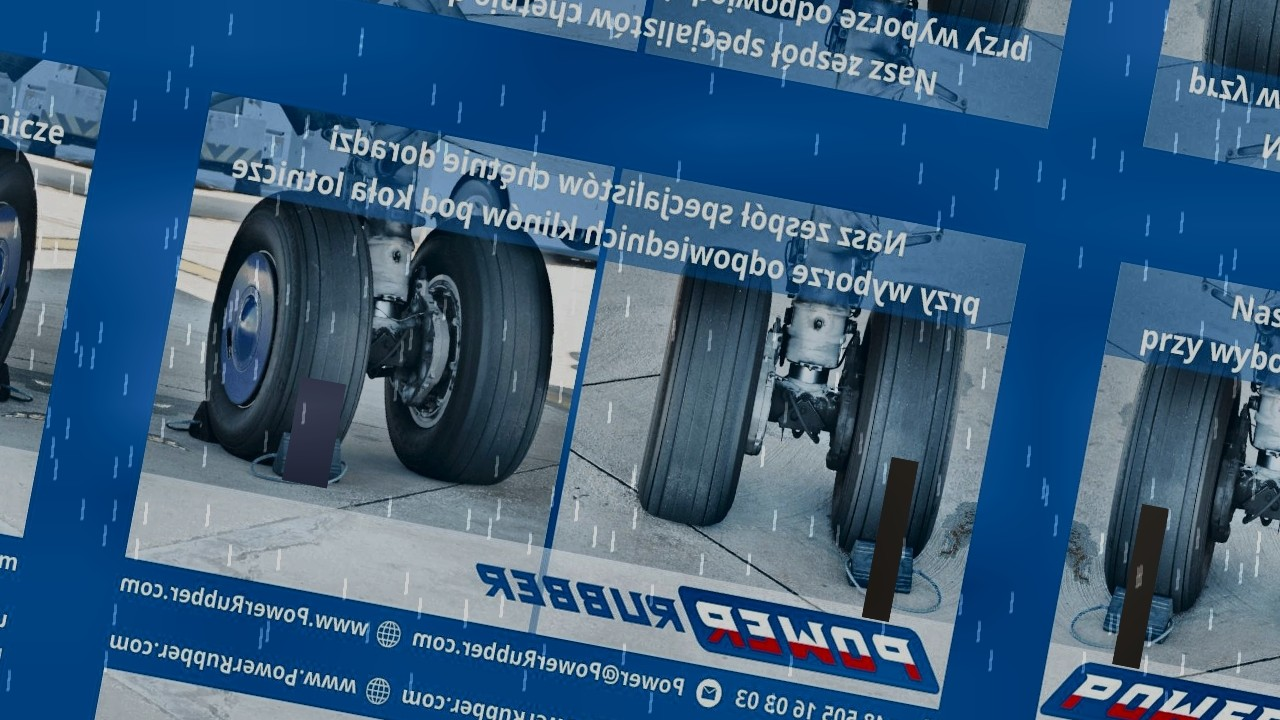chock: (1099, 580, 1181, 651), (840, 532, 922, 602), (268, 425, 349, 490), (181, 397, 225, 446), (0, 358, 21, 408)
wheel: (186, 186, 396, 479), (369, 215, 576, 497), (821, 275, 983, 569), (1092, 326, 1254, 620), (631, 242, 784, 533), (441, 166, 517, 234)
